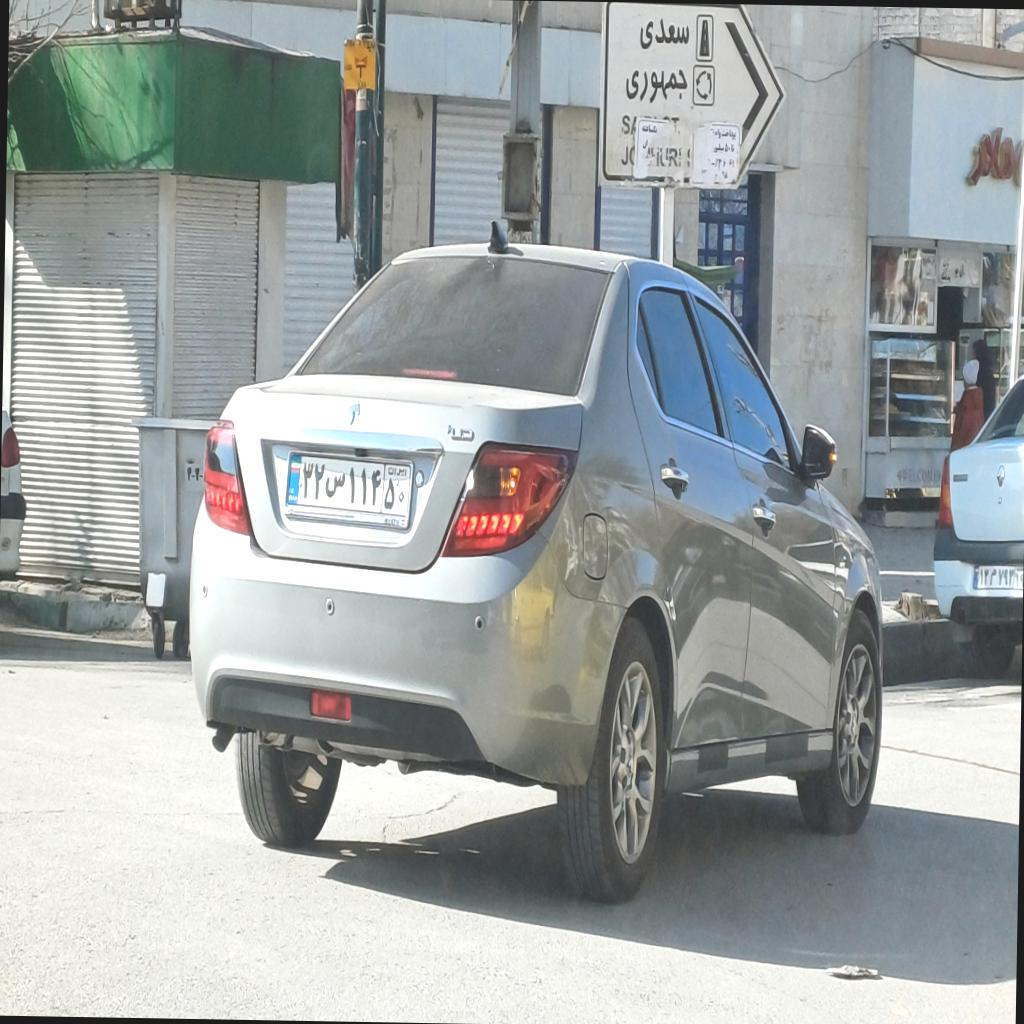Plates: (286, 450, 410, 521), (972, 564, 1023, 590)
